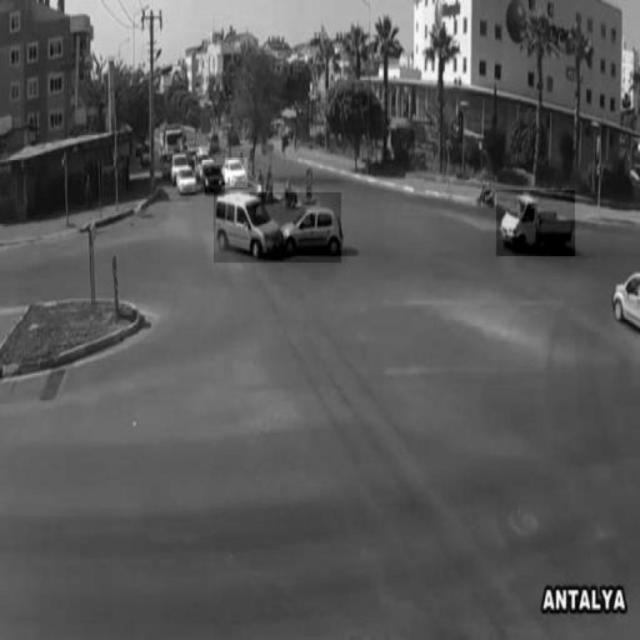accident: (214, 193, 342, 263)
vehicle: (497, 191, 575, 257), (225, 158, 247, 188), (177, 165, 197, 192), (204, 165, 224, 192)
